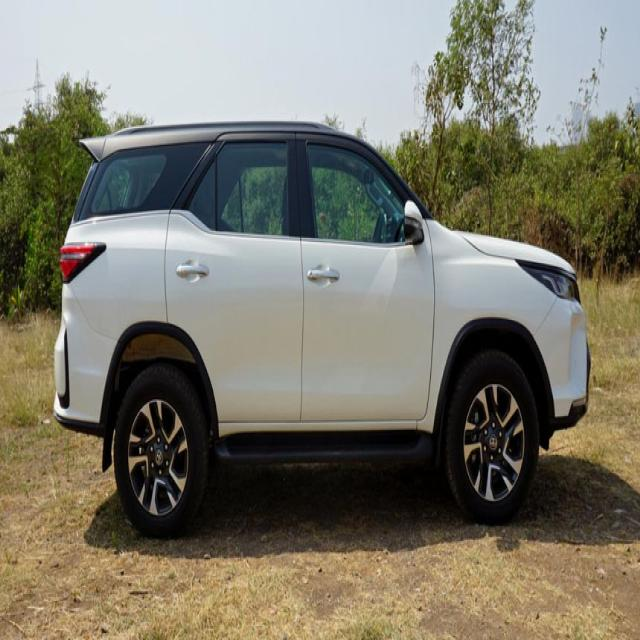light_vehicle: (52, 122, 592, 538)
